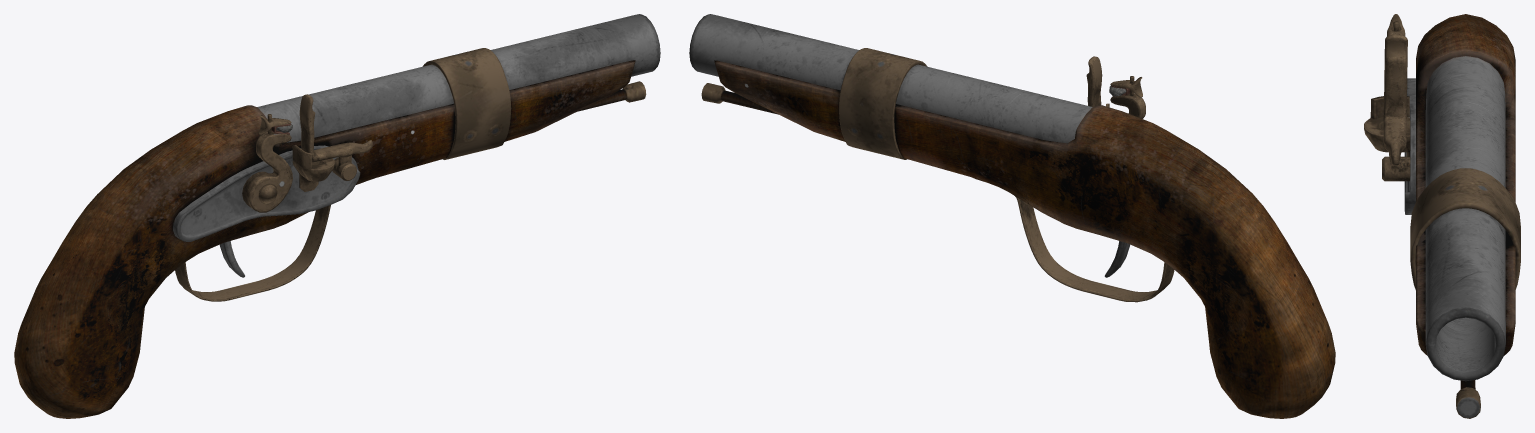
File: small_flintlock_pistol_duval_1776.glb
3 views of the same model, side by side, from view 1: azimuth 30°, elevation 25°; view 2: azimuth 150°, elevation 25°; view 3: azimuth 270°, elevation 25° (orthographic). The views are drawn at different scales.
Visible parts, largest first — view 1: body_low, barrell_low, cover_low, guard_low, tguard_low, hammer_low, steel_low, well_low, rod_low; view 2: body_low, barrell_low, cover_low, tguard_low, rod_low, steel_low; view 3: barrell_low, body_low, cover_low, steel_low, well_low, guard_low, rod_low, screw2_low, top_low.
Boxes of the visible parts, bbox=[...] form: body_low: bbox=[14, 60, 635, 418]; barrell_low: bbox=[257, 14, 660, 142]; cover_low: bbox=[423, 48, 511, 159]; guard_low: bbox=[173, 145, 360, 241]; tguard_low: bbox=[175, 178, 374, 301]; hammer_low: bbox=[242, 131, 292, 212]; steel_low: bbox=[299, 94, 372, 165]; well_low: bbox=[292, 145, 334, 191]; rod_low: bbox=[578, 81, 646, 111]; body_low: bbox=[714, 60, 1335, 418]; barrell_low: bbox=[689, 14, 1092, 143]; cover_low: bbox=[839, 48, 927, 159]; tguard_low: bbox=[972, 177, 1174, 302]; rod_low: bbox=[701, 83, 778, 114]; steel_low: bbox=[1086, 56, 1102, 106]; barrell_low: bbox=[1425, 56, 1505, 381]; body_low: bbox=[1416, 14, 1515, 355]; cover_low: bbox=[1410, 168, 1520, 289]; steel_low: bbox=[1383, 35, 1407, 166]; well_low: bbox=[1364, 96, 1410, 156]; guard_low: bbox=[1404, 78, 1415, 214]; rod_low: bbox=[1456, 380, 1480, 418]; screw2_low: bbox=[1382, 156, 1410, 181]; top_low: bbox=[1387, 14, 1405, 36].
Size of the model in its own units: 194 by 84.68 by 31.53.
1 material, 1 textured.
